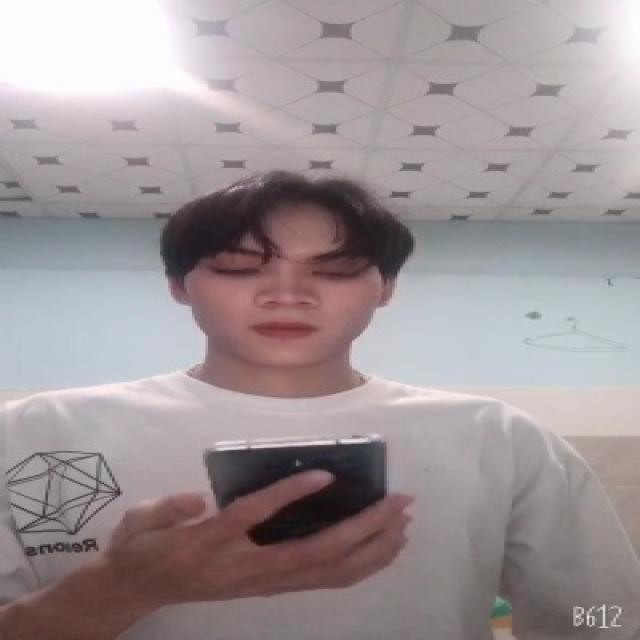Phone: (200, 433, 393, 552)
